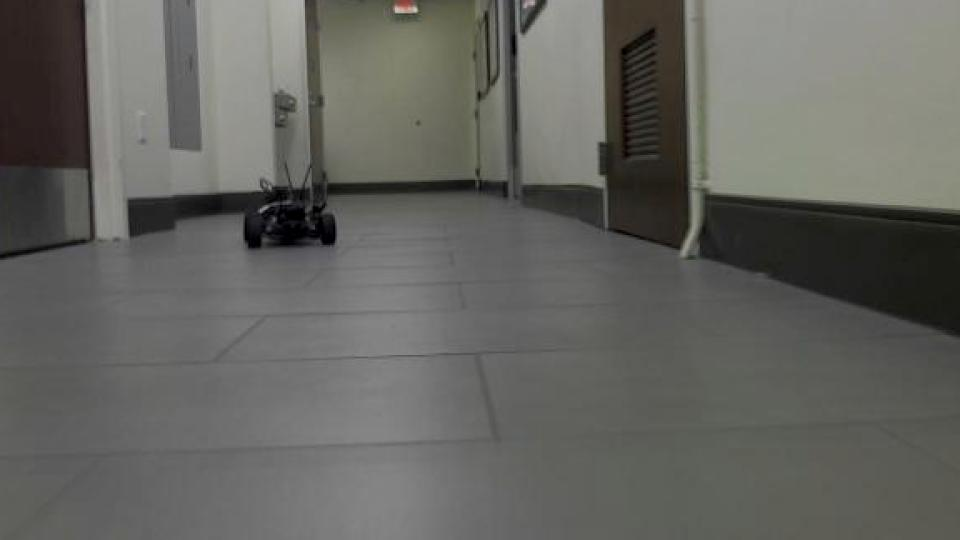car: (237, 158, 340, 254)
